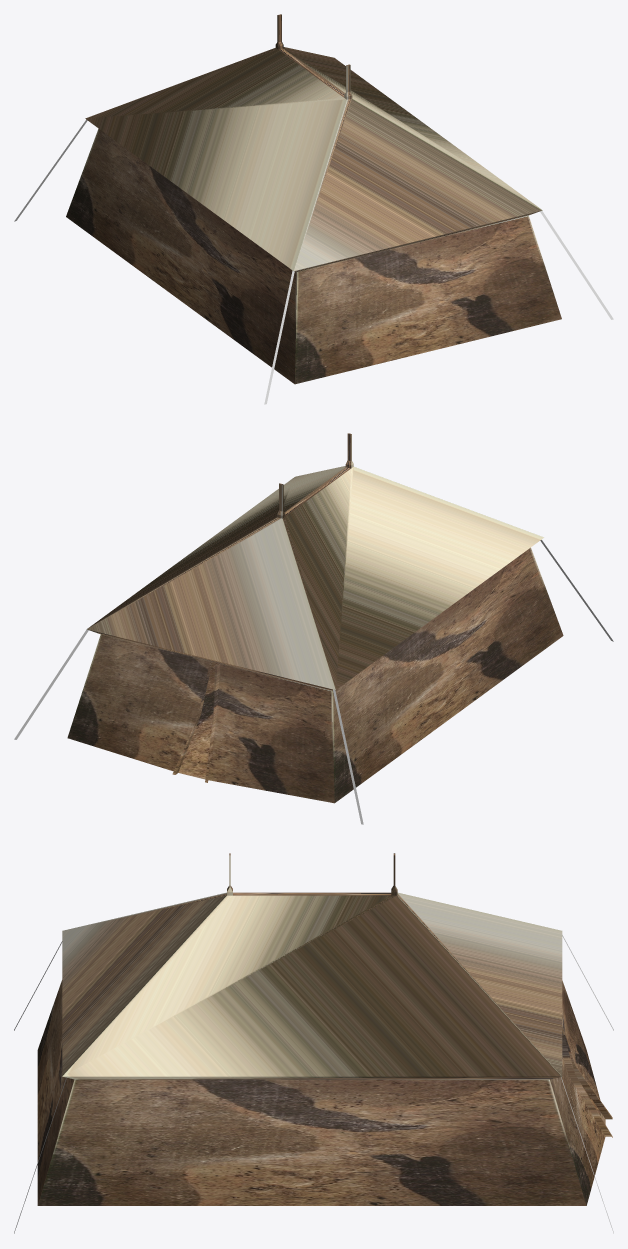
The model's file is Tent.FBX.
3 views of the same model, one above another, from view 1: azimuth 30°, elevation 25°; view 2: azimuth 150°, elevation 25°; view 3: azimuth 270°, elevation 25° (orthographic). The views are drawn at different scales.
Visible parts, largest first — view 1: Box535; view 2: Box535; view 3: Box535.
Part boxes in pixels (x1=…): Box535: x1=66, y1=14, x2=561, y2=384; Box535: x1=67, y1=433, x2=563, y2=803; Box535: x1=37, y1=853, x2=612, y2=1205.
Bounding box in the file's own units: 28.18 × 17.8 × 34.92.
